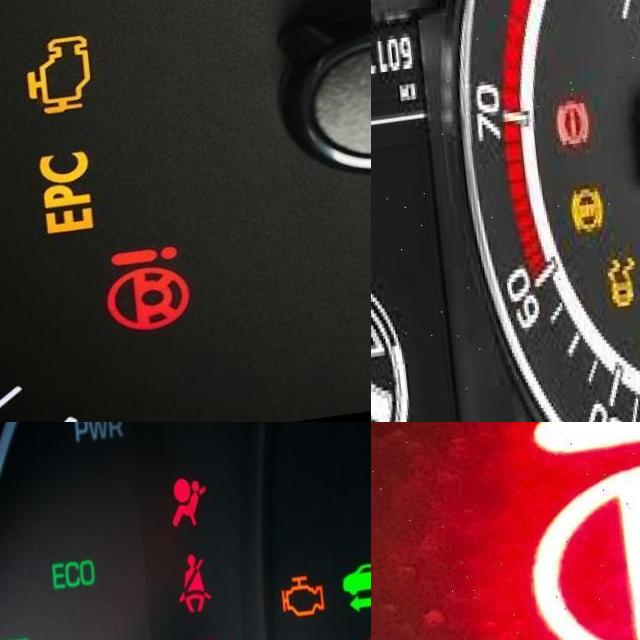Electronic Power Steering: (90, 246, 182, 340)
Electronic Power Steering Warning: (523, 422, 640, 640)
Seat Belt: (167, 560, 205, 624)
